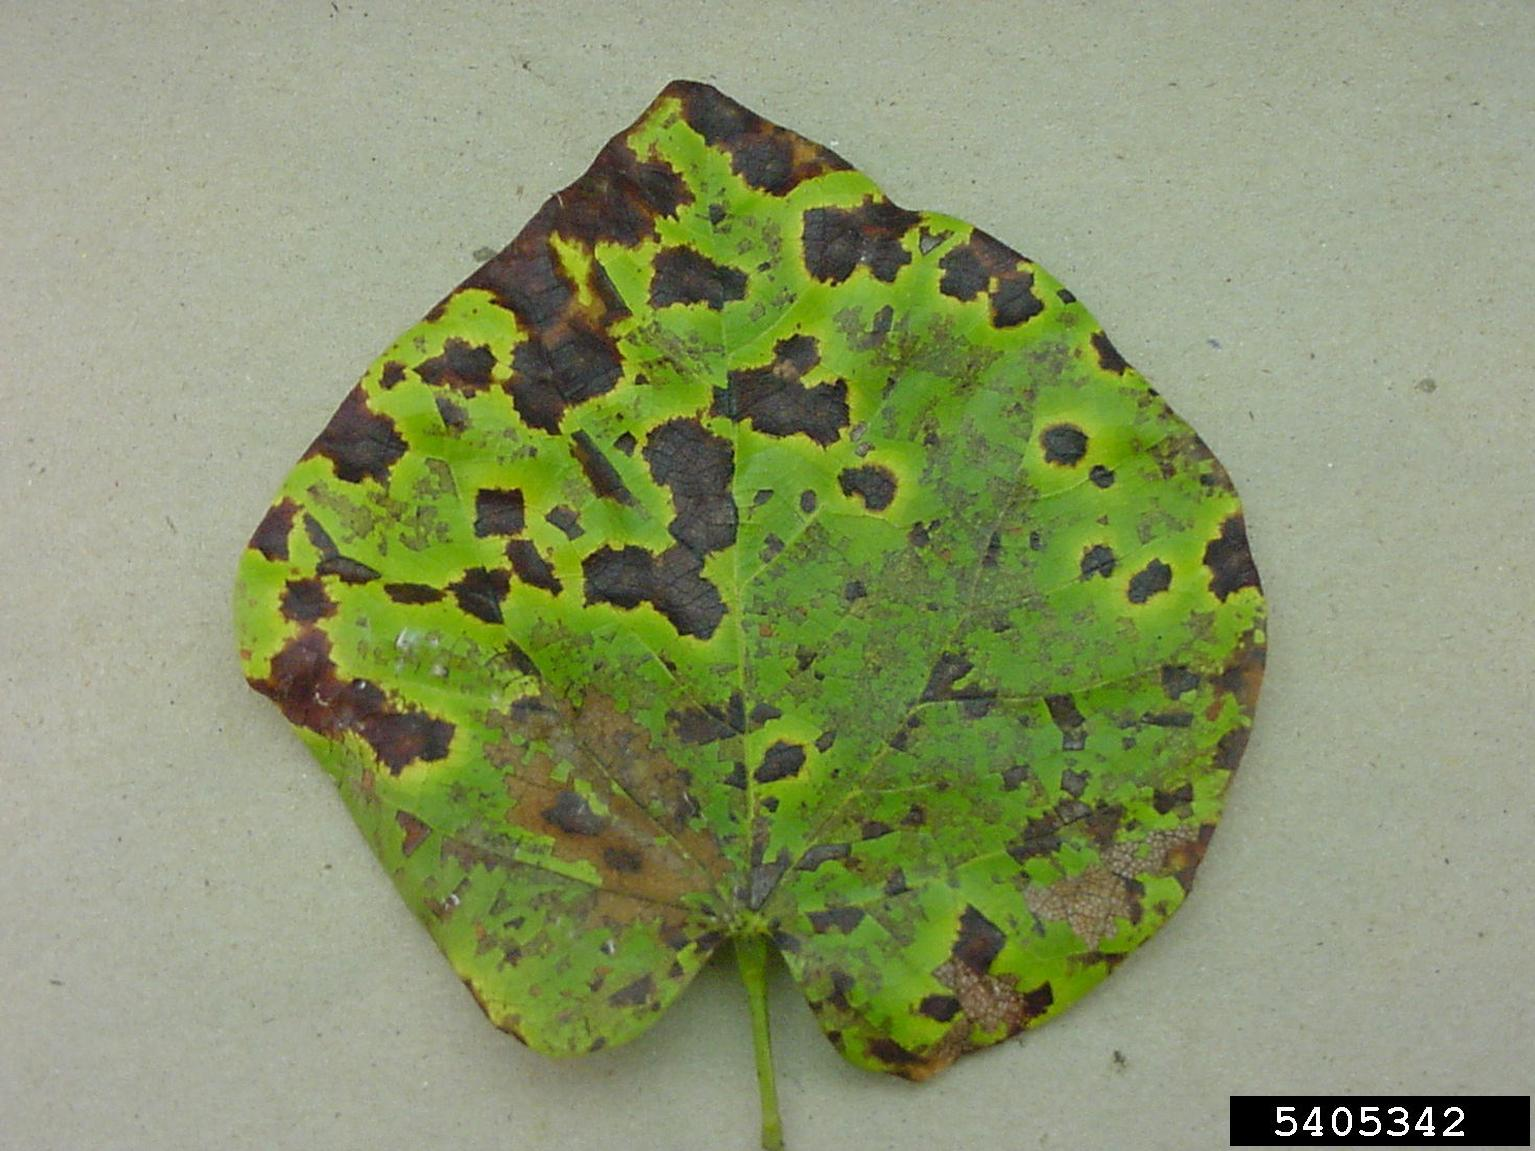unhealthy: (260, 80, 1298, 1070)
